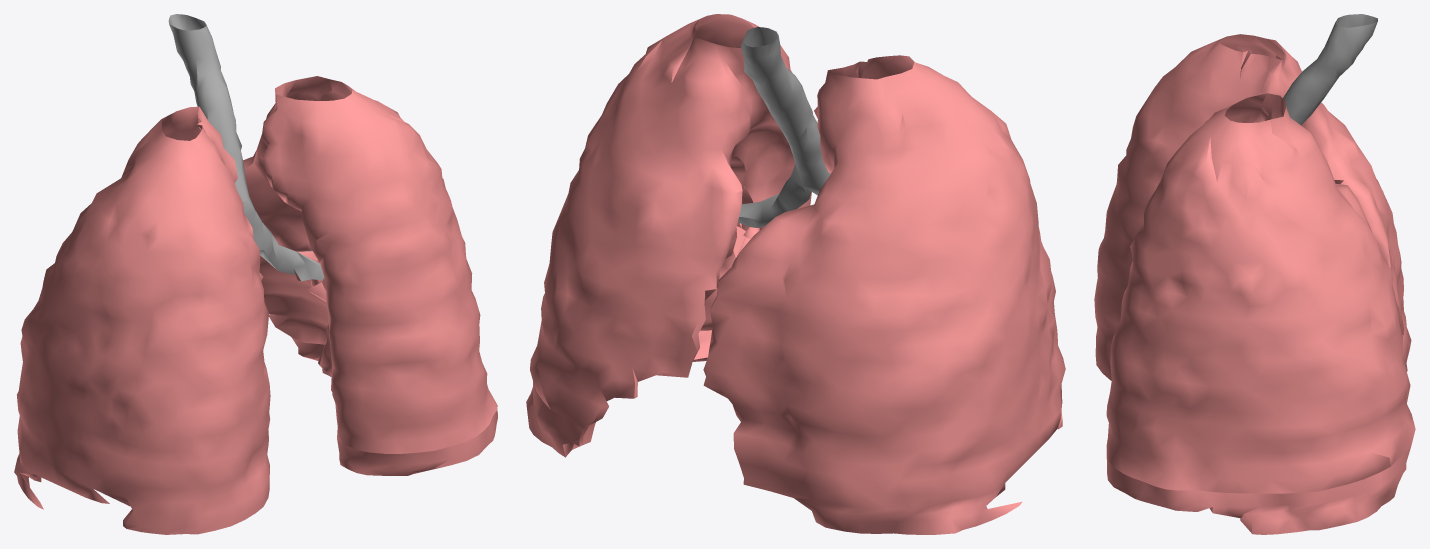
The model's file is lungs.dae.
The picture shows the model from 3 angles, left to right: view 1: azimuth 30°, elevation 25°; view 2: azimuth 150°, elevation 25°; view 3: azimuth 270°, elevation 25°; orthographic projection. The views are drawn at different scales.
Parts seen in each view (by area): view 1: group_0 (×3); view 2: group_0 (×3); view 3: group_0 (×3).
Boxes of the visible parts, x1,y1,x2,y2 form: group_0 (×3): [14, 14, 497, 534]; group_0 (×3): [526, 14, 1065, 534]; group_0 (×3): [1094, 14, 1415, 534].
Bounding box in the file's own units: 245 × 161 × 225.
